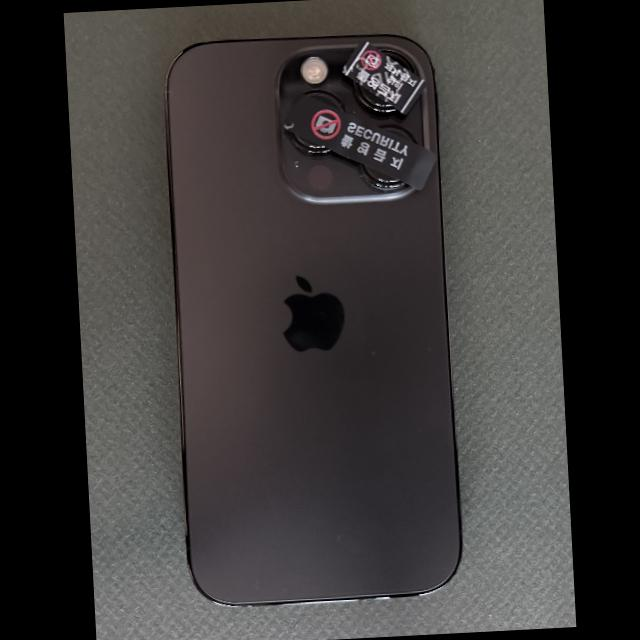lens: (355, 162, 406, 190), (355, 83, 396, 112), (302, 90, 345, 112)
phone: (166, 36, 460, 604)
sticker: (282, 92, 437, 191), (341, 40, 427, 115)
